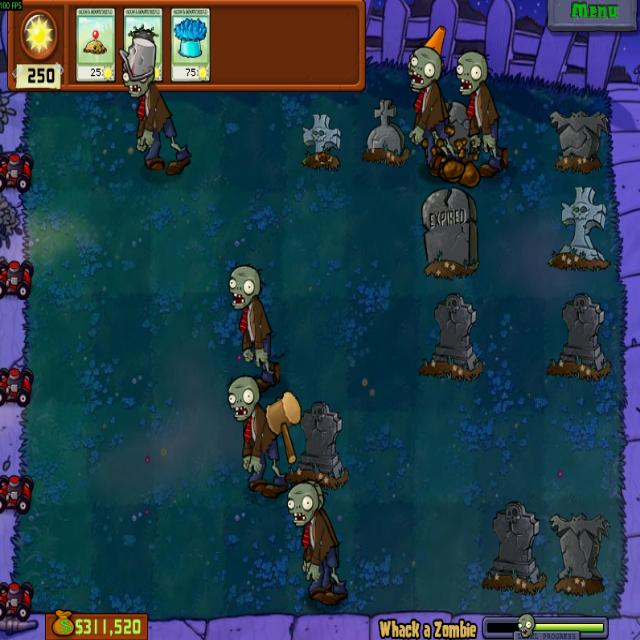conehead: (424, 24, 446, 62)
damaged_buckethead: (116, 36, 156, 98)
grave: (481, 500, 548, 596), (418, 290, 483, 382), (547, 291, 611, 383), (550, 508, 612, 600), (548, 185, 608, 274), (422, 186, 479, 278), (289, 400, 344, 492), (548, 104, 610, 173), (363, 98, 408, 165), (299, 109, 342, 174), (436, 101, 476, 164)
gravebuster: (124, 9, 163, 48)
zombie: (224, 264, 262, 310), (225, 375, 260, 424), (456, 50, 490, 94), (288, 482, 318, 527), (409, 48, 438, 90), (308, 482, 326, 508)
